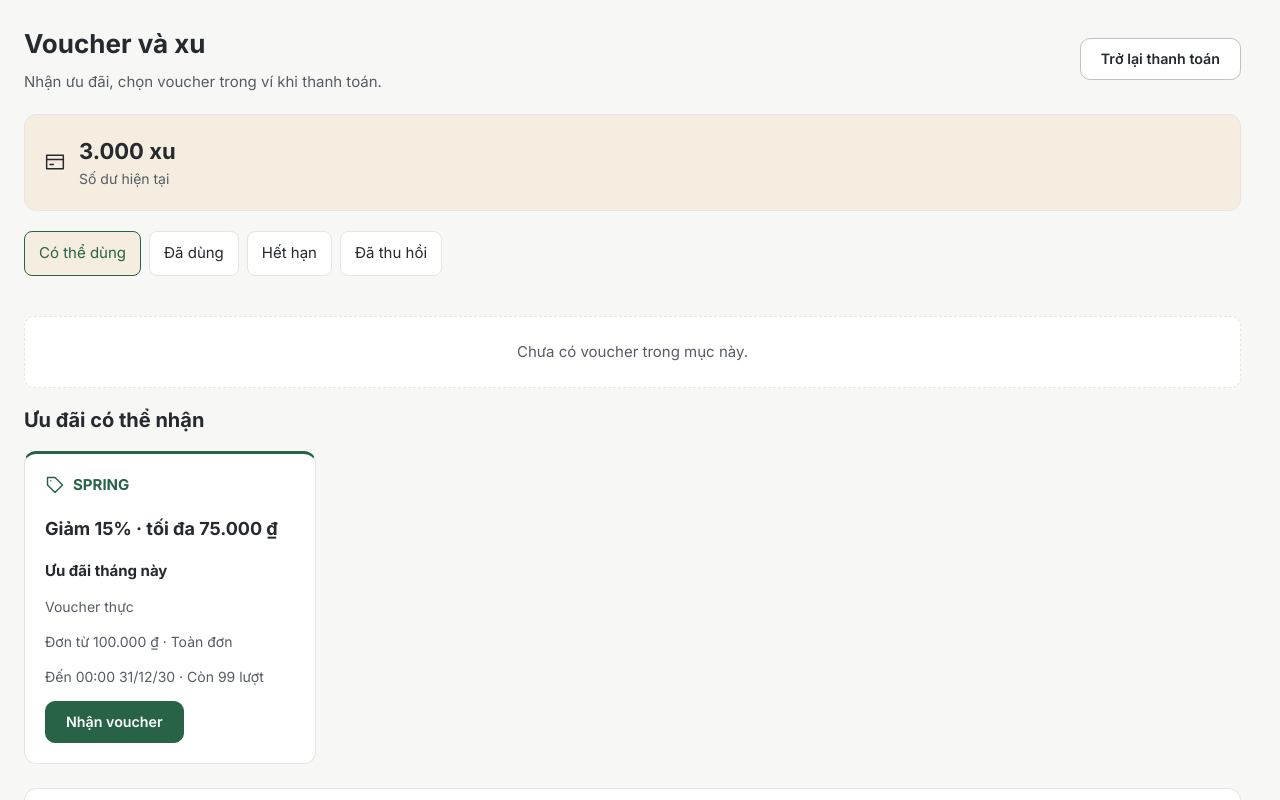
Test: Ví voucher › nhận voucher, reload ví và dùng cùng key khi retry lỗi mạng
The width and height of the screenshot is (1280, 800).
Click the button "Nhận voucher" at (114, 722), box [45,701,184,743]
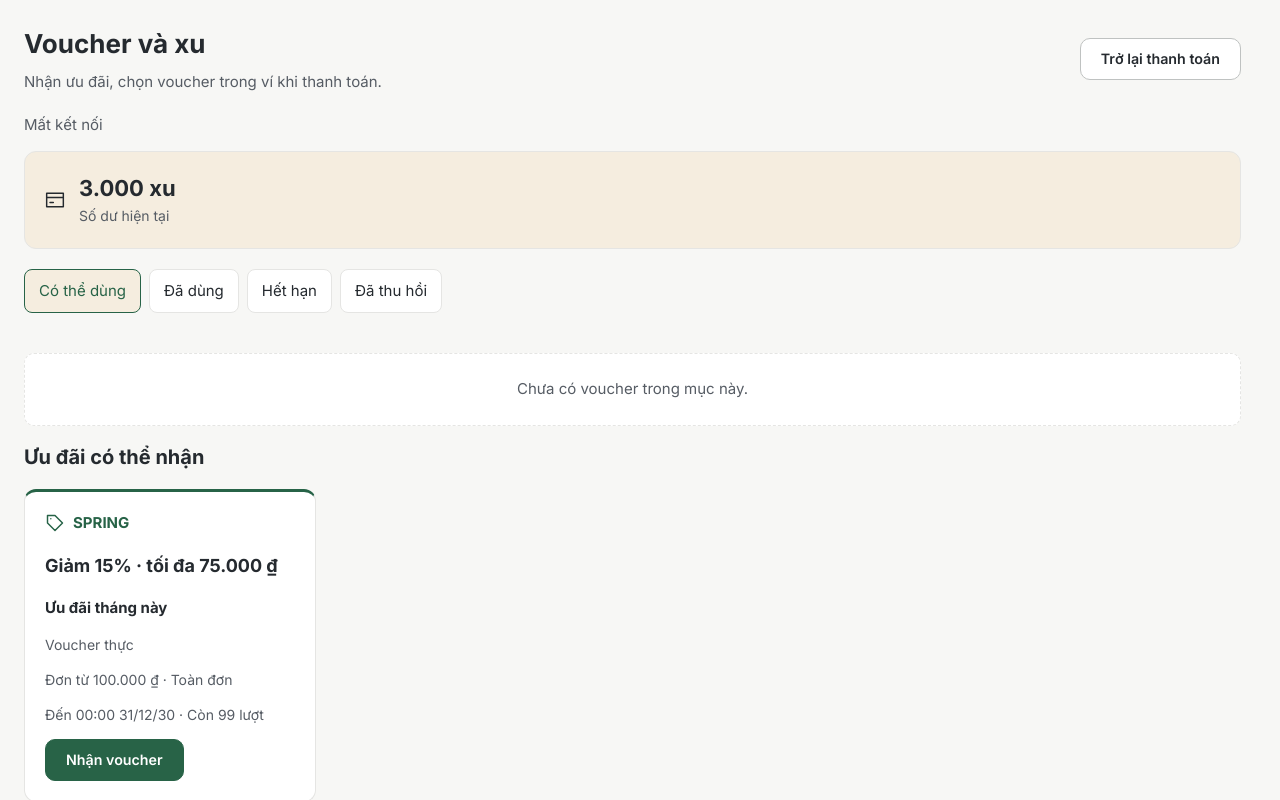
Expected: the text "Mất kết nối" is shown, [24,114,103,134]
Click the button "Nhận voucher" at (114, 760), box [45,739,184,781]
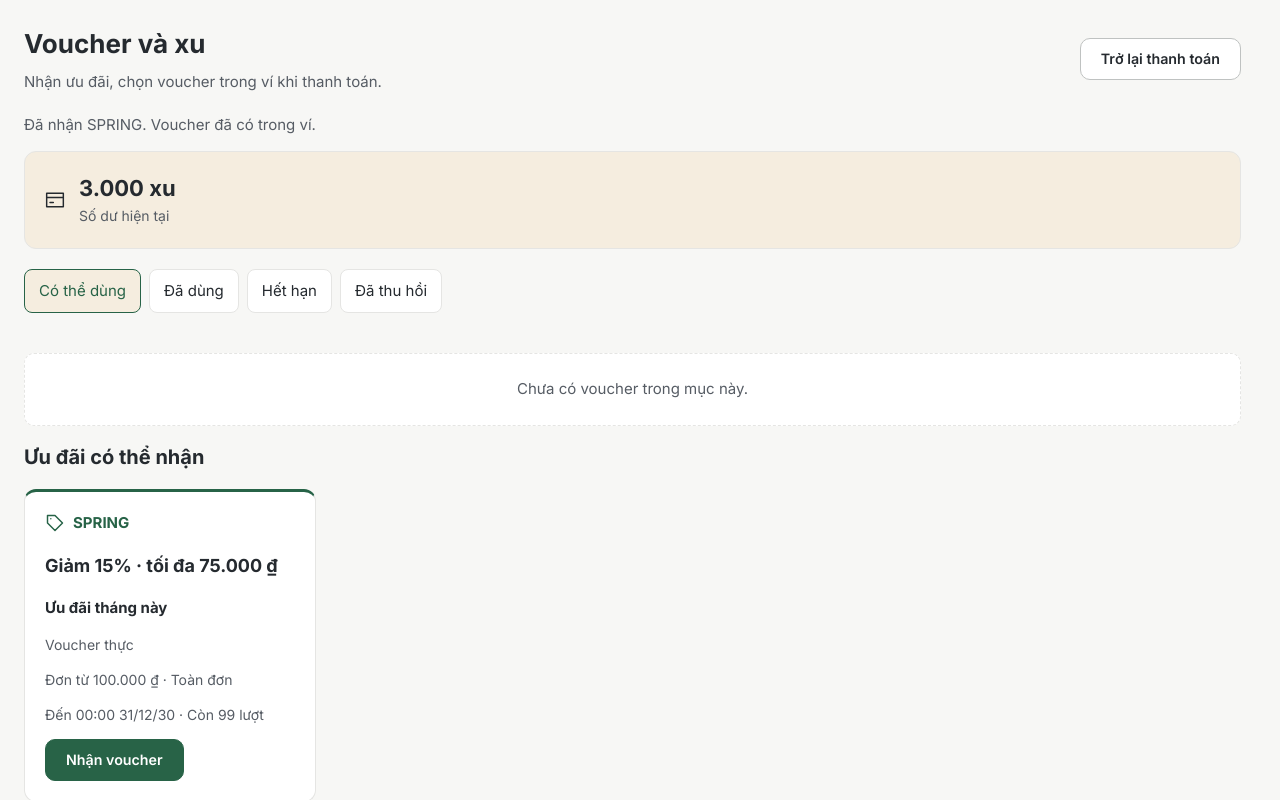
Expected: the text "Đã nhận SPRING. Voucher đã có trong ví." is shown, [24,114,316,134]
